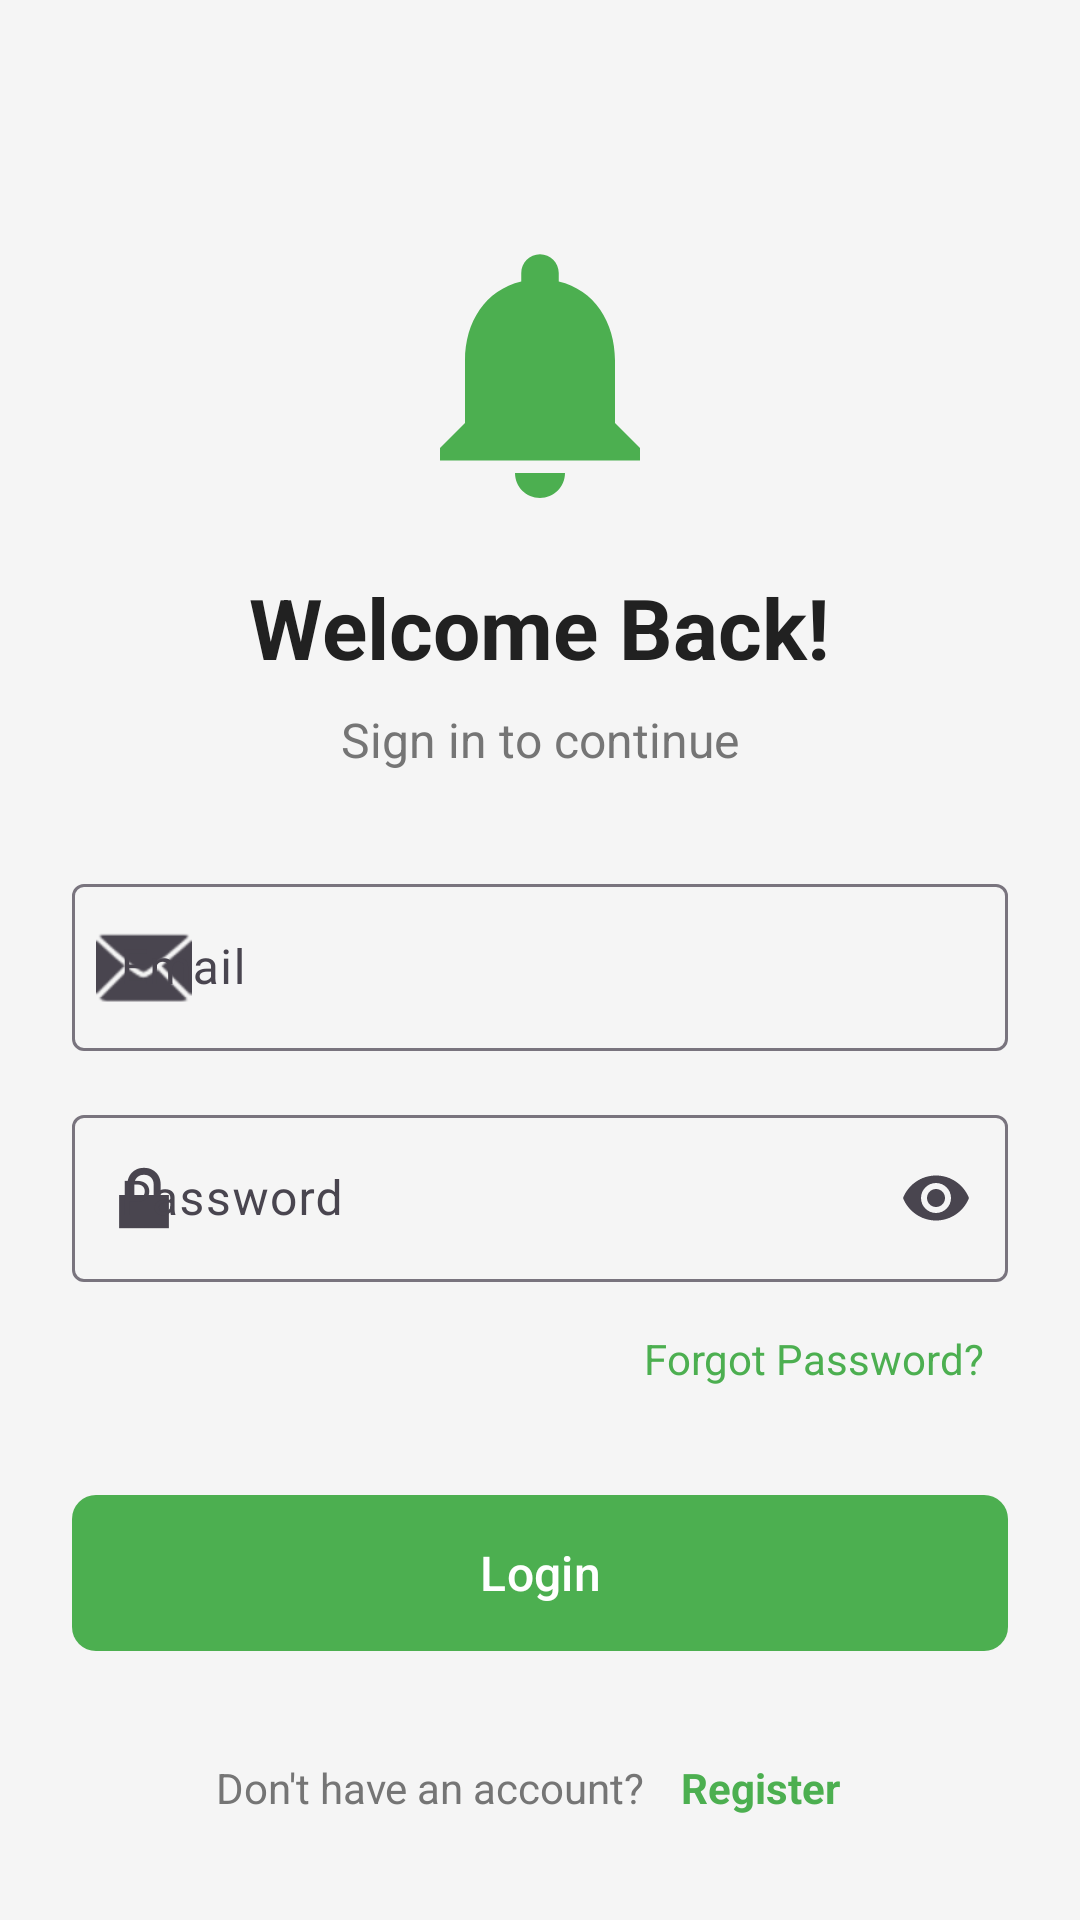

Locate icon controls on the screen. Image size 1080x1920, boxes as (x1, y1, x2, y2).
notification: (440, 254, 640, 498)
